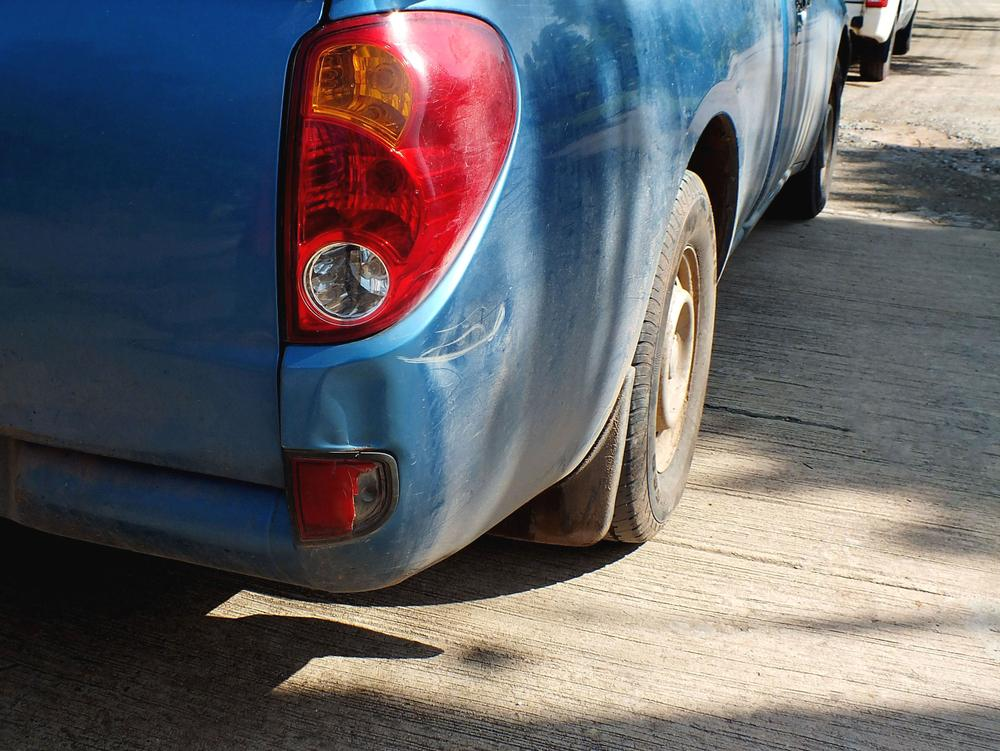dent: (313, 359, 392, 447)
scratch: (393, 299, 510, 370)
